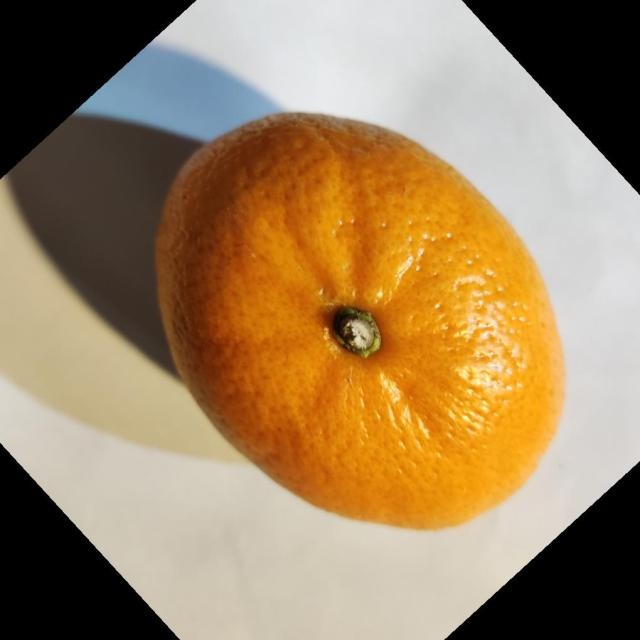agrume: (153, 109, 566, 531)
